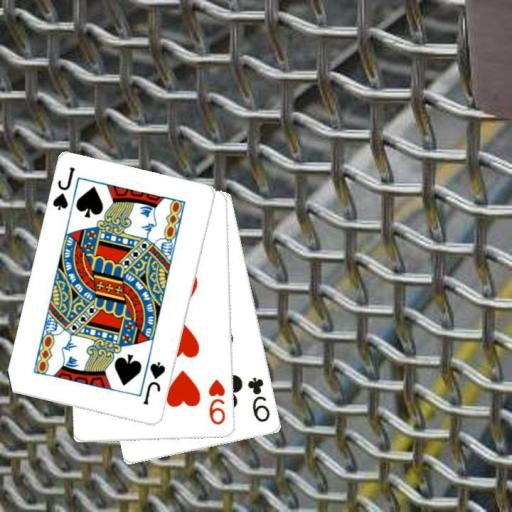9C: (245, 374, 272, 424)
9H: (206, 376, 228, 427)
JS: (140, 358, 167, 407), (50, 164, 77, 212)
